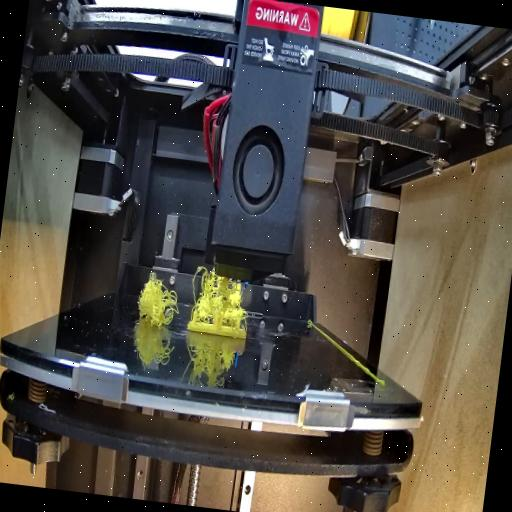spaghetti: (188, 263, 252, 327), (135, 270, 182, 324)
